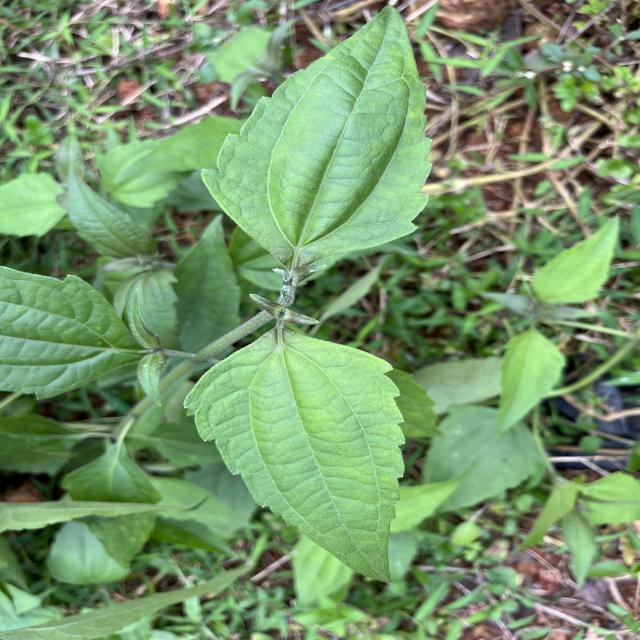Chromolaena odorata: (195, 0, 442, 270), (178, 319, 410, 590)
